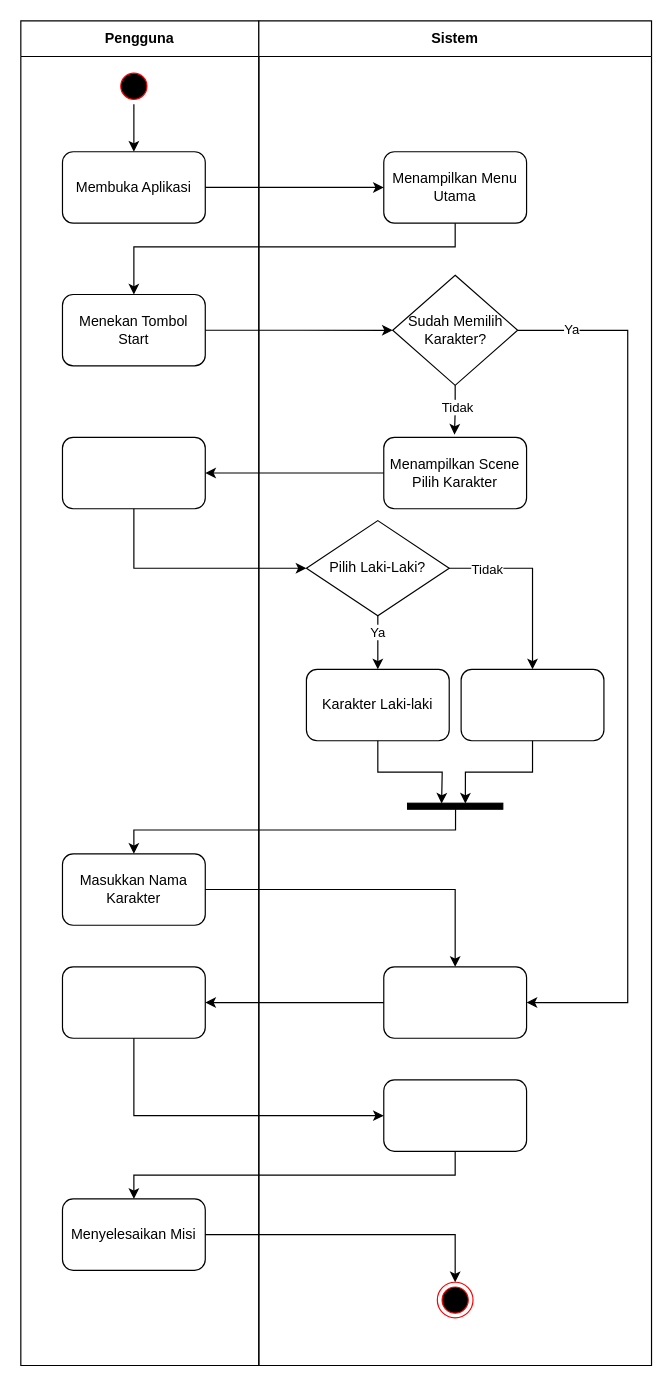
Image size: 672x1386. Some labels were removed from this diagram. Each missing label, with the centre of its shape:
"Karakter Perempuan" goes at [532,704].
"Membuka Misi" goes at [133,1002].
"Memilih Jenis Kelamin Karakter" goes at [133,472].
"Menampilkan Detail Misi" goes at [455,1115].
"Menampilkan Scene Gameplay" goes at [455,1002].
